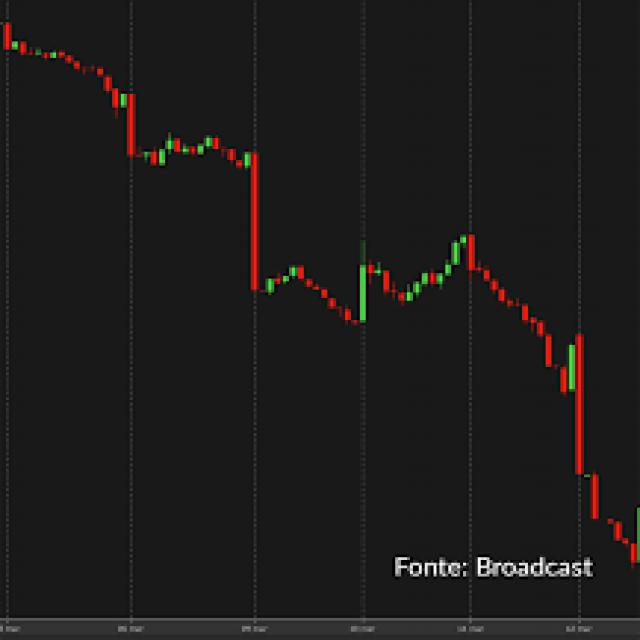bandeira_baixa: (206, 95, 494, 346)
